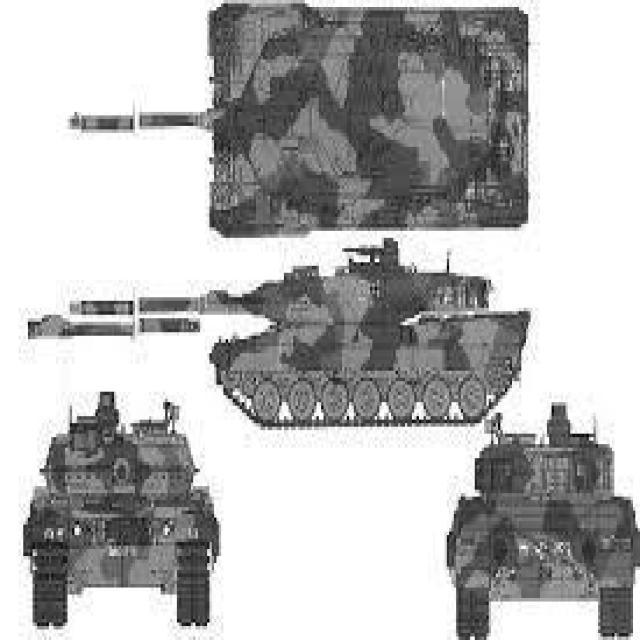MIL_MBT: (70, 3, 531, 234), (28, 240, 531, 425), (22, 388, 220, 630), (443, 399, 639, 637)
